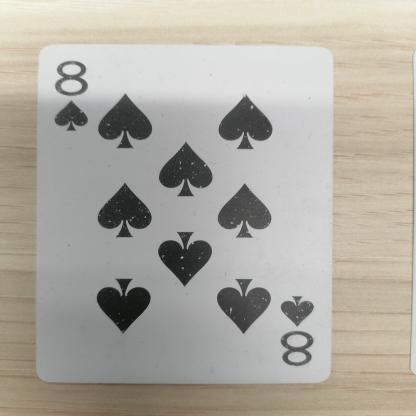8S: (268, 282, 334, 376), (44, 50, 104, 140)
